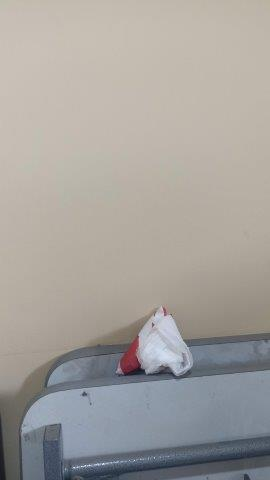plastik: (111, 306, 195, 380)
